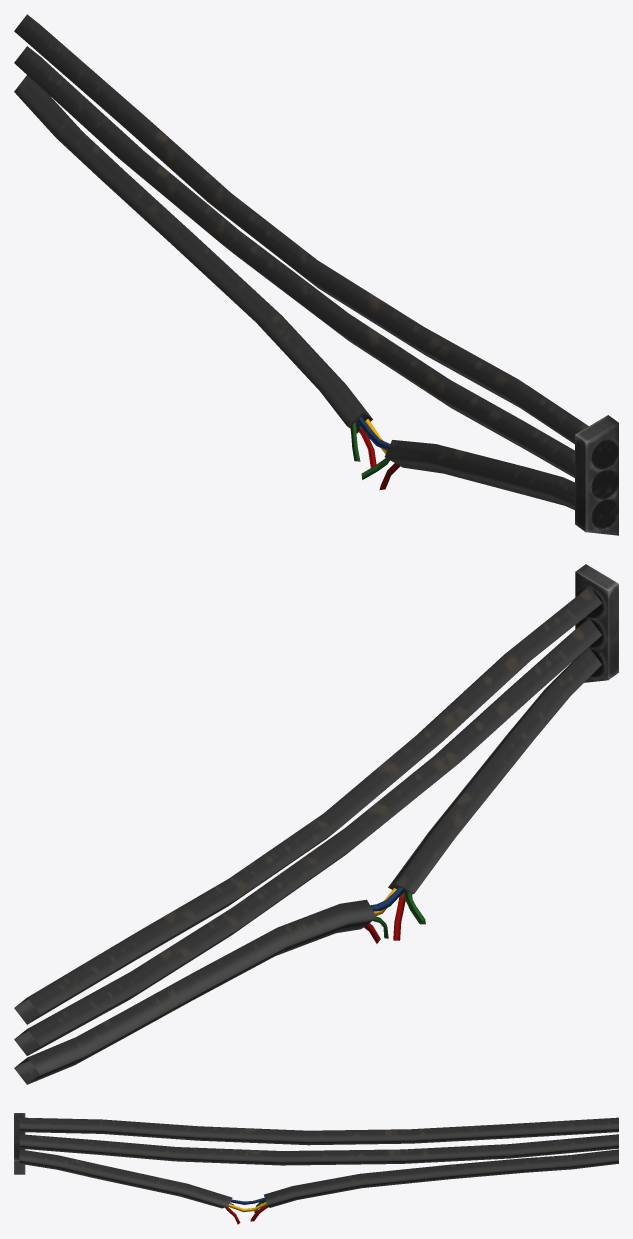
Rendered from cableWall01_C.FBX.
3 renders of one model, top to bottom at view 1: azimuth 30°, elevation 25°; view 2: azimuth 150°, elevation 25°; view 3: azimuth 270°, elevation 25°, orthographic. The views are drawn at different scales.
Parts seen in each view (by area): view 1: cableWall01_C; view 2: cableWall01_C; view 3: cableWall01_C.
Boxes of the visible parts, x1,y1,x2,y2 form: cableWall01_C: (14, 14, 618, 535); cableWall01_C: (14, 564, 618, 1084); cableWall01_C: (14, 1113, 618, 1224).
Bounding box in the file's own units: 14.46 × 63.13 × 303.
